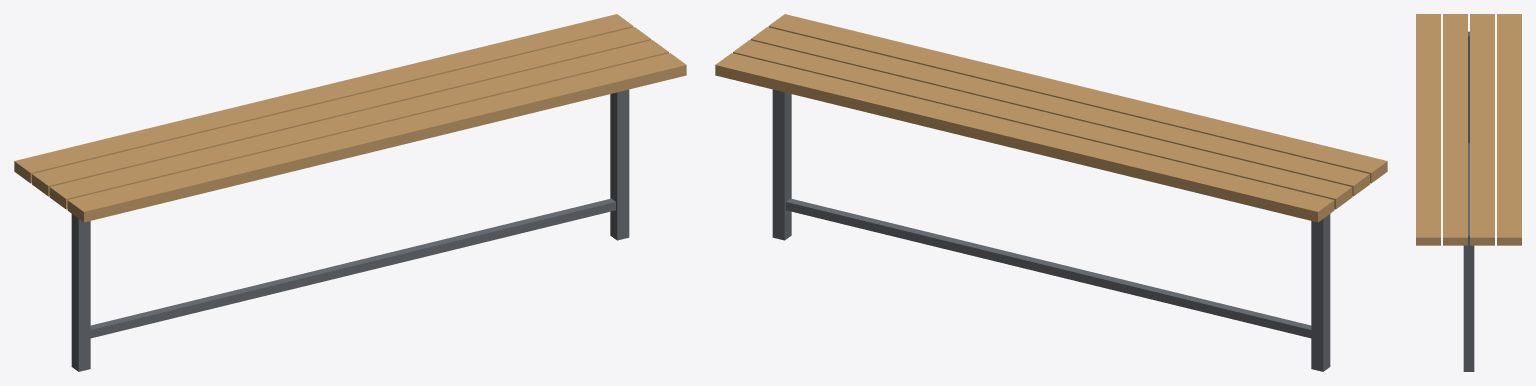
Rendered from banco-vestuario-pino.glb.
3 views of the same model, side by side, from view 1: azimuth 30°, elevation 25°; view 2: azimuth 150°, elevation 25°; view 3: azimuth 270°, elevation 25° (orthographic). The views are drawn at different scales.
Parts seen in each view (by area): view 1: asiento, refuerzo_metalico, pata_izquierda, pata_derecha; view 2: asiento, refuerzo_metalico, pata_izquierda, pata_derecha; view 3: asiento, pata_derecha, pata_izquierda, refuerzo_metalico.
Boxes of the visible parts, x1,y1,x2,y2 form: asiento: (14, 14, 686, 222); refuerzo_metalico: (90, 198, 615, 338); pata_izquierda: (71, 214, 90, 371); pata_derecha: (610, 89, 629, 240); asiento: (715, 14, 1387, 222); refuerzo_metalico: (786, 198, 1328, 339); pata_izquierda: (1311, 214, 1330, 371); pata_derecha: (772, 89, 791, 240); asiento: (1416, 14, 1521, 245); pata_derecha: (1463, 231, 1474, 371); pata_izquierda: (1468, 31, 1469, 143); refuerzo_metalico: (1468, 143, 1471, 344).
Bounding box in the file's own units: 1.5 × 0.45 × 0.3.
